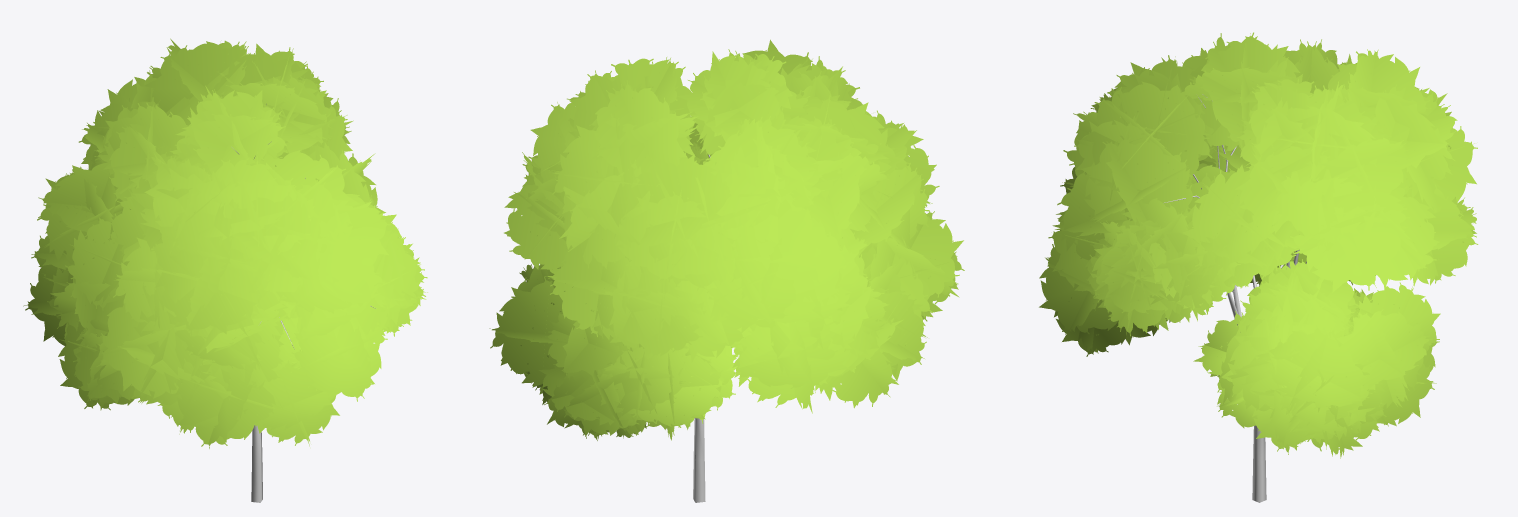
The model's file is tree02.fbx.
The picture shows the model from 3 angles, left to right: view 1: azimuth 30°, elevation 25°; view 2: azimuth 150°, elevation 25°; view 3: azimuth 270°, elevation 25°; orthographic projection. The views are drawn at different scales.
Parts seen in each view (by area): view 1: leaves.053, trunk; view 2: leaves.053, leaves.004, trunk; view 3: leaves.053, leaves.004, trunk.
Boxes of the visible parts, x1,y1,x2,y2 form: leaves.053: [23, 38, 427, 448]; trunk: [232, 104, 375, 502]; leaves.053: [504, 39, 964, 413]; leaves.004: [489, 264, 738, 440]; trunk: [693, 154, 731, 502]; leaves.053: [1039, 32, 1478, 356]; leaves.004: [1193, 259, 1440, 458]; trunk: [1163, 94, 1306, 502].
Bounding box in the file's own units: 659 × 738 × 691.
